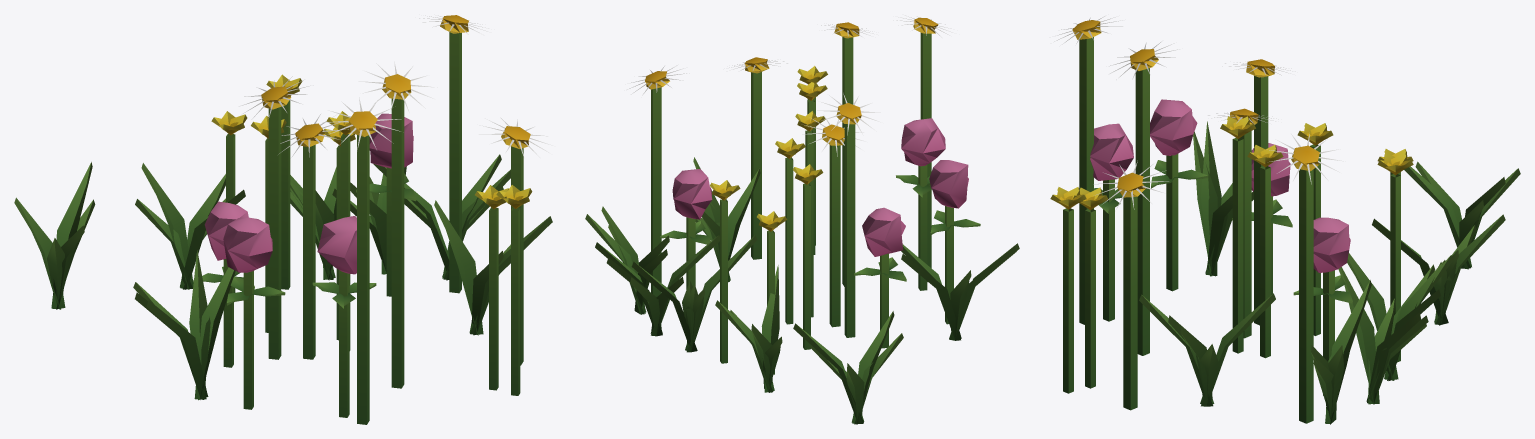
The model's file is fp_meadow.glb.
3 renders of one model, left to right at view 1: azimuth 30°, elevation 25°; view 2: azimuth 150°, elevation 25°; view 3: azimuth 270°, elevation 25°, orthographic. The views are drawn at different scales.
Visible parts, largest first — view 1: fp_meadow; view 2: fp_meadow; view 3: fp_meadow.
Boxes of the visible parts, bbox=[...] form: fp_meadow: bbox=[14, 15, 552, 424]; fp_meadow: bbox=[585, 15, 1019, 424]; fp_meadow: bbox=[1050, 16, 1520, 424].
Bounding box in the file's own units: 0.8249 × 0.5583 × 0.7874.
